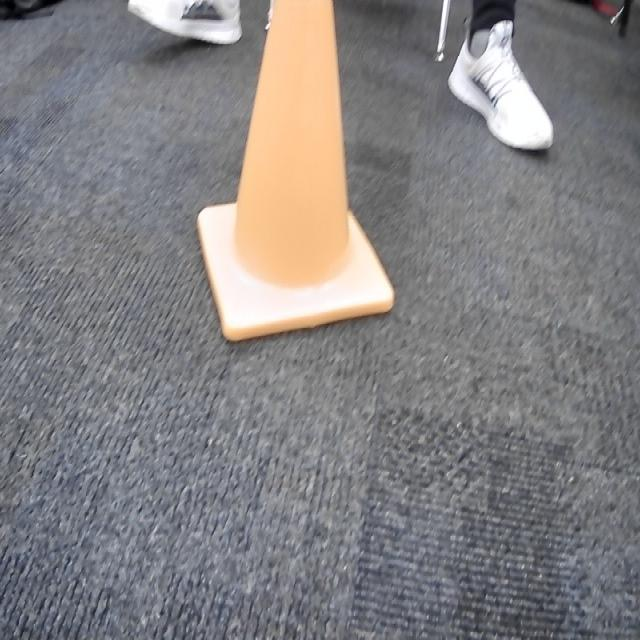cone: (197, 0, 393, 340)
